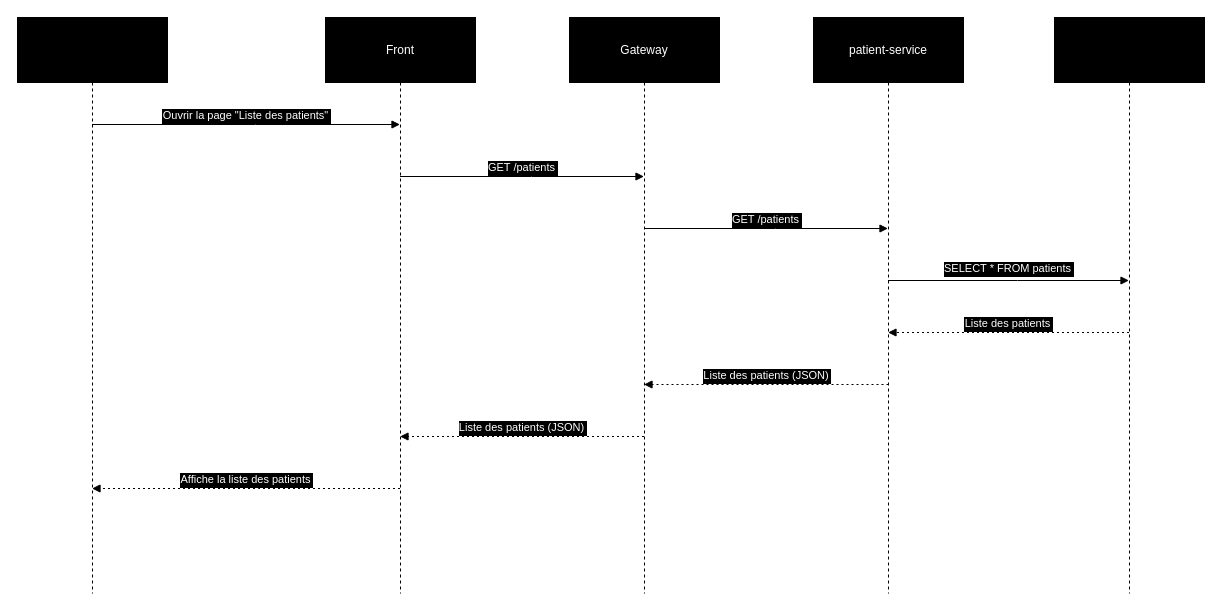
This 1222x611 diagram has some shape labels left out. Each missing label, with the box of its shape:
MySQL: (1054, 16, 1204, 594)
Utilisateur: (16, 16, 168, 594)
